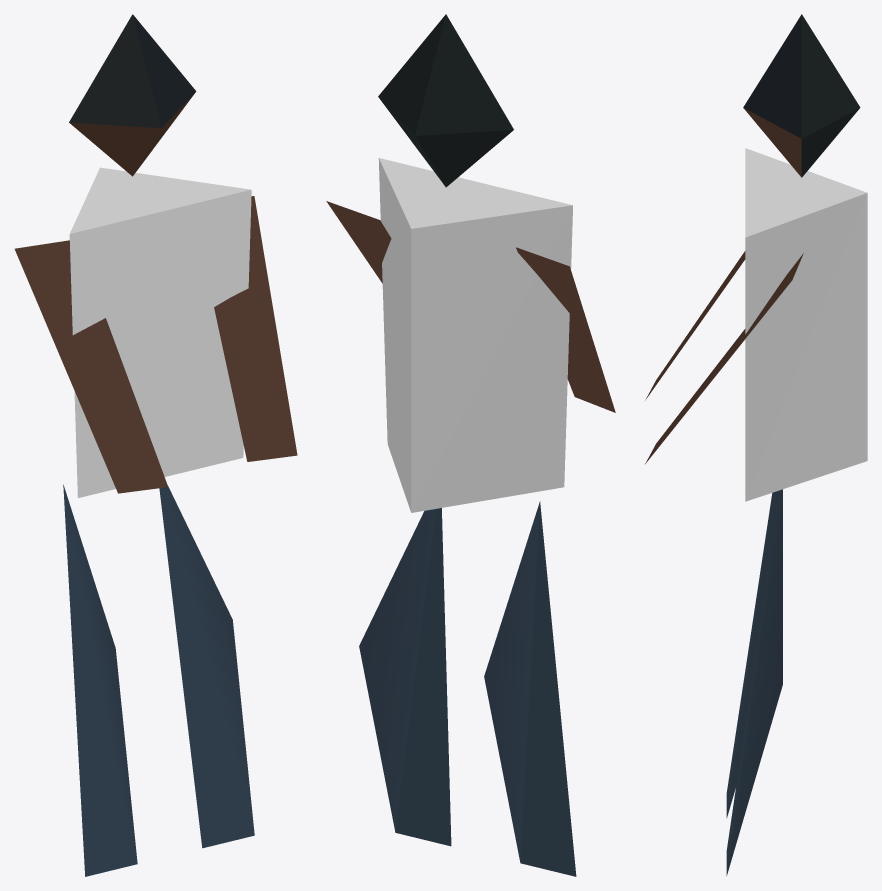
The model's file is fan-10.glb.
3 renders of one model, left to right at view 1: azimuth 30°, elevation 25°; view 2: azimuth 150°, elevation 25°; view 3: azimuth 270°, elevation 25°, orthographic. The views are drawn at different scales.
Parts seen in each view (by area): view 1: fan-10; view 2: fan-10; view 3: fan-10.
Part boxes in pixels (bbox=[...]): fan-10: bbox=[14, 14, 297, 876]; fan-10: bbox=[326, 14, 615, 876]; fan-10: bbox=[645, 14, 867, 875].
Size of the model in its own units: 0.58 by 1.93 by 0.475.
